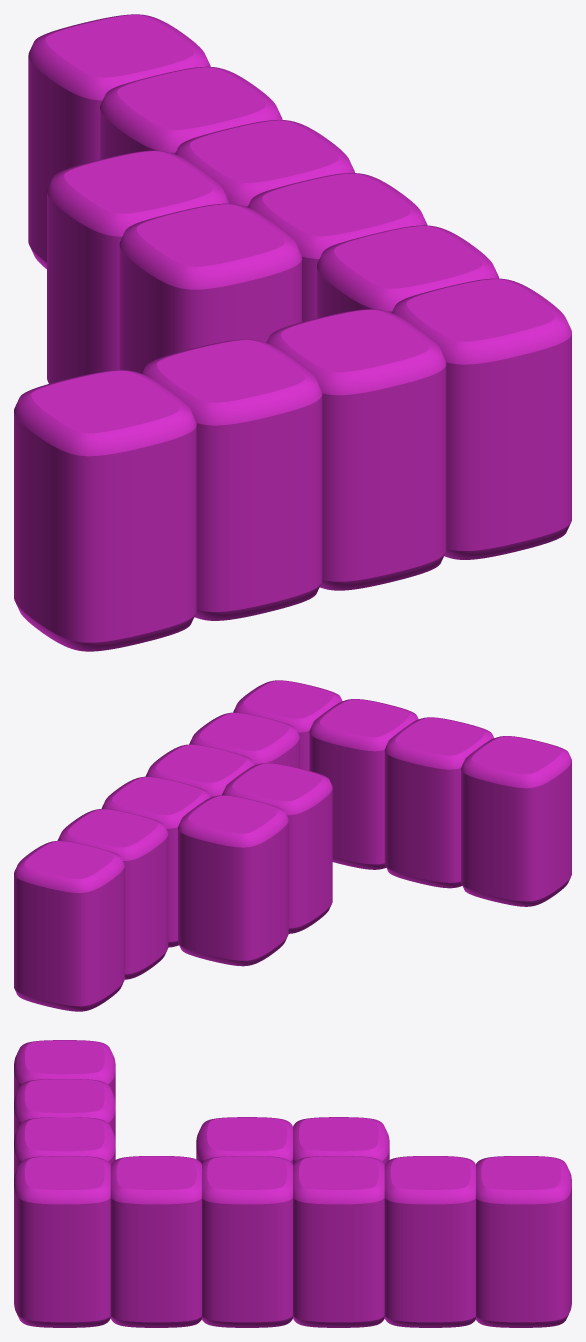
The model's file is Letter_F.fbx.
The picture shows the model from 3 angles, top to bottom: view 1: azimuth 30°, elevation 25°; view 2: azimuth 150°, elevation 25°; view 3: azimuth 270°, elevation 25°; orthographic projection. The views are drawn at different scales.
Visible parts, largest first — view 1: Letter_F; view 2: Letter_F; view 3: Letter_F.
Part boxes in pixels (x1,y1,x2,y2): Letter_F: (14,14,571,651); Letter_F: (14,680,571,1011); Letter_F: (14,1040,571,1327).
Size of the model in its own units: 0.3465 by 0.14 by 0.5146.
